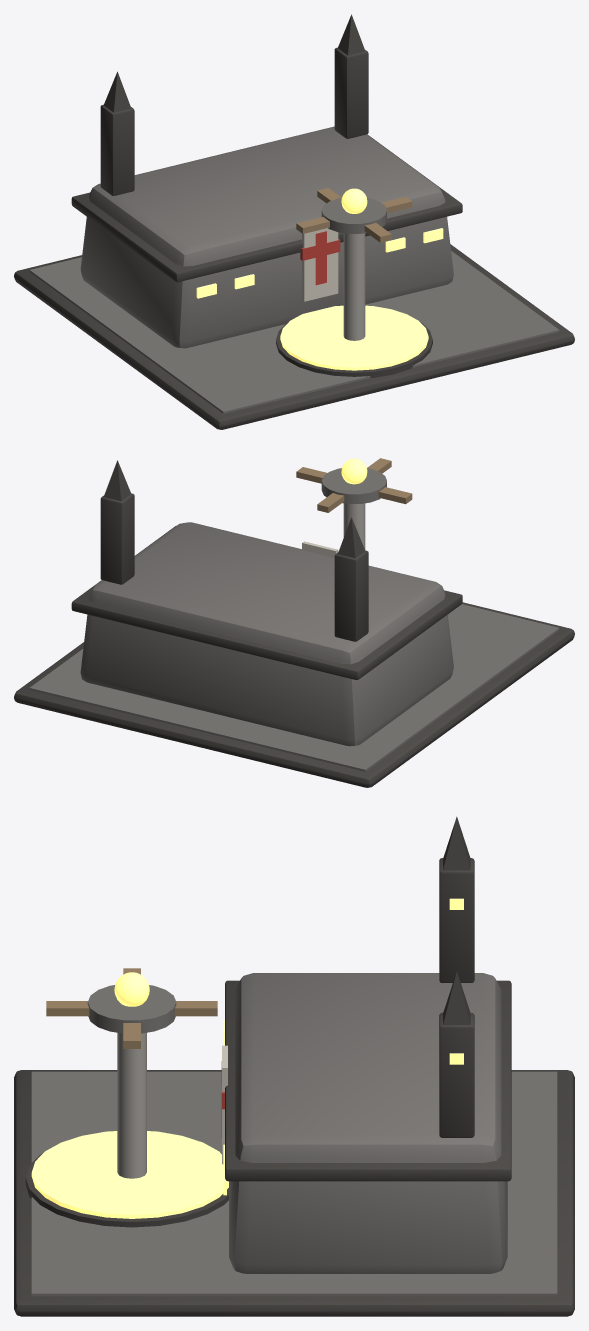
Rendered from medic_hum.glb.
3 views of the same model, one above another, from view 1: azimuth 30°, elevation 25°; view 2: azimuth 150°, elevation 25°; view 3: azimuth 270°, elevation 25° (orthographic). The views are drawn at different scales.
Visible parts, largest first — view 1: medic_hum, spin_m; view 2: medic_hum, spin_m; view 3: medic_hum, spin_m.
Boxes of the visible parts, <box> form: medic_hum: <box>14,14,574,429</box>; spin_m: <box>296,188,412,242</box>; medic_hum: <box>14,460,574,787</box>; spin_m: <box>296,458,412,512</box>; medic_hum: <box>14,816,574,1316</box>; spin_m: <box>46,968,217,1048</box>.
Size of the model in its own units: 1.9 by 1.15 by 1.9.
